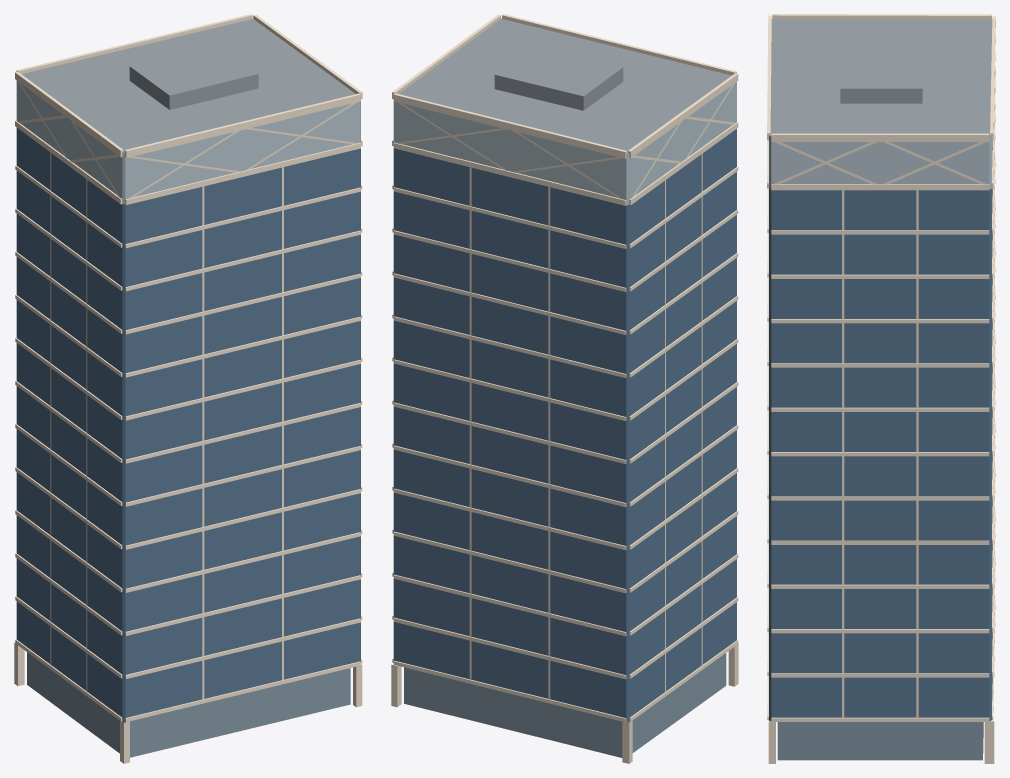
The model's file is slc-111-main.glb.
The picture shows the model from 3 angles, left to right: view 1: azimuth 30°, elevation 25°; view 2: azimuth 150°, elevation 25°; view 3: azimuth 270°, elevation 25°; orthographic projection. The views are drawn at different scales.
Visible parts, largest first — view 1: 111 Main; view 2: 111 Main; view 3: 111 Main.
Boxes of the visible parts, x1,y1,x2,y2 form: 111 Main: (14, 14, 362, 763); 111 Main: (391, 14, 738, 763); 111 Main: (767, 14, 995, 763).
Size of the model in its own units: 48.8 by 120 by 38.99.
